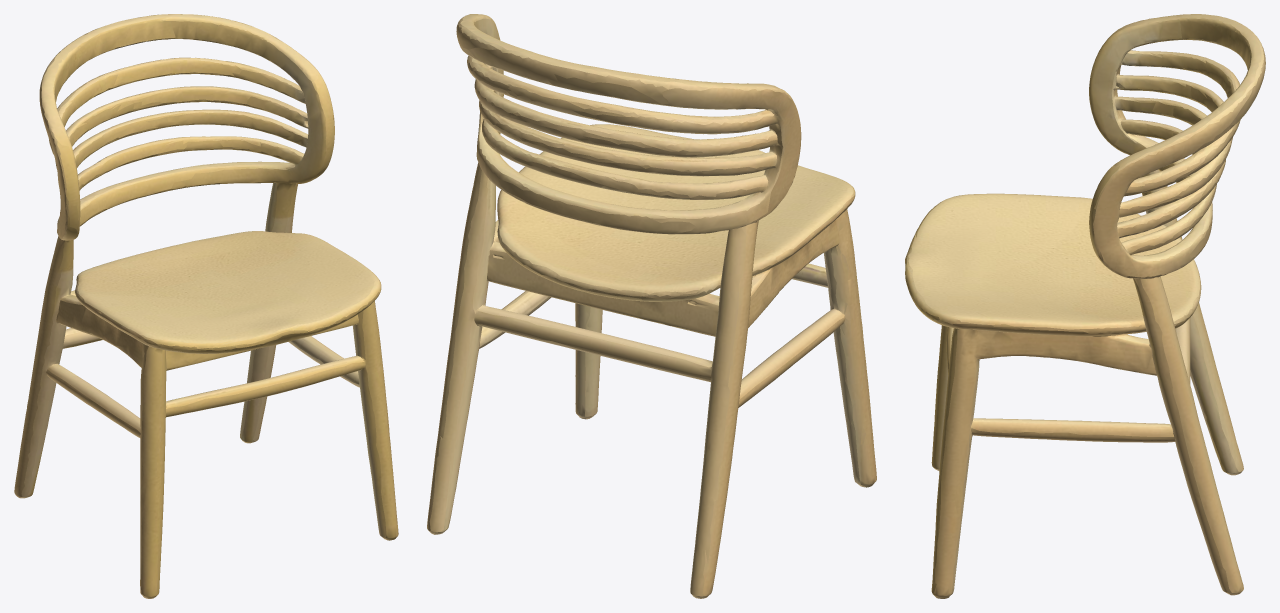
Rendered from L_DINING_CHAIR.cyberpunk.glb.
3 renders of one model, left to right at view 1: azimuth 30°, elevation 25°; view 2: azimuth 150°, elevation 25°; view 3: azimuth 270°, elevation 25°, orthographic. The views are drawn at different scales.
Visible parts, largest first — view 1: geometry_0; view 2: geometry_0; view 3: geometry_0.
Boxes of the visible parts, x1,y1,x2,y2 form: geometry_0: (14, 14, 398, 598); geometry_0: (427, 14, 876, 598); geometry_0: (905, 14, 1265, 598).
Size of the model in its own units: 0.5285 by 0.82 by 0.5611.
1 material, 1 textured.
